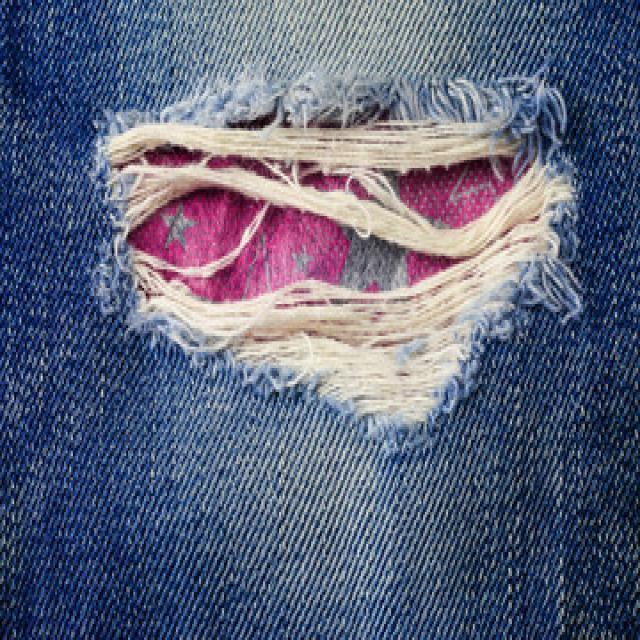Hole: (96, 73, 583, 446)
